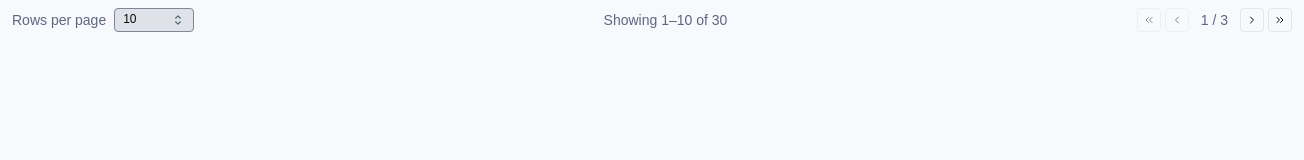
Test: DataTablePagination › shows the current page range and advances on next-page click
Expected: the text "Showing 1–10 of 30" is shown, [604,10,727,30]
What coordinates should you click on to do the following:
click the button named "Go to next page"
I would click on:
 (1252, 20)
Its box is [1240,8,1264,32].
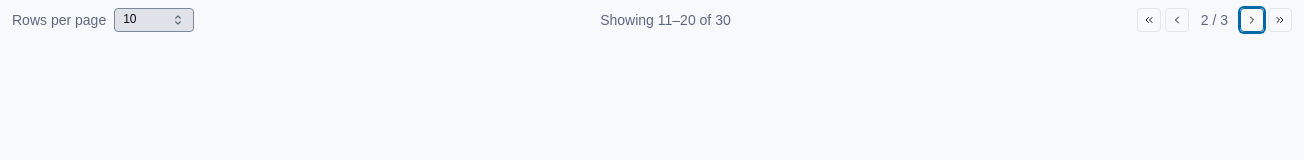
Expected: the text "Showing 11–20 of 30" is shown, [600,10,731,30]
